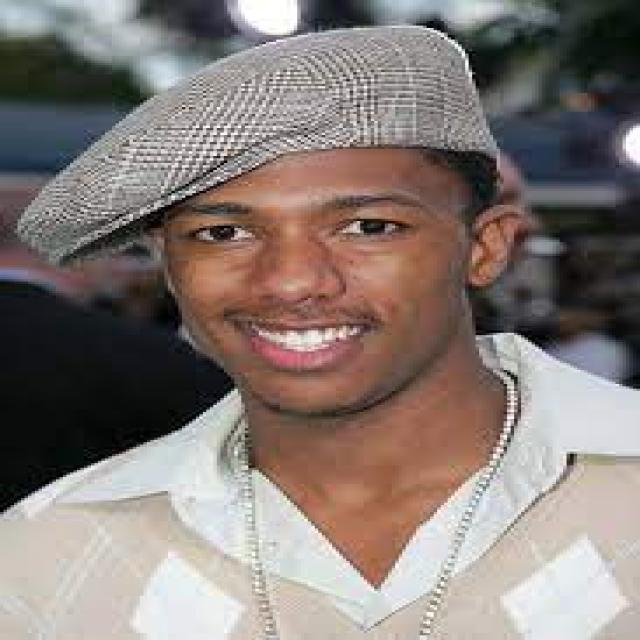hat: (10, 17, 542, 274)
